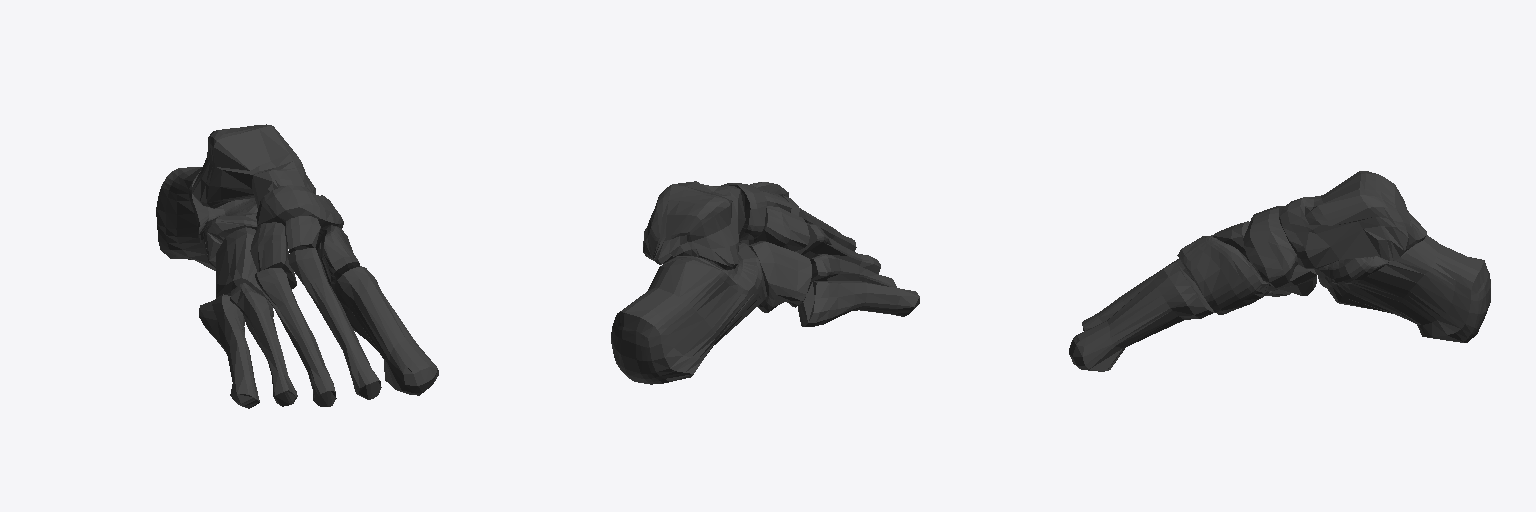
File: R_Talus.obj
3 renders of one model, left to right at view 1: azimuth 30°, elevation 25°; view 2: azimuth 150°, elevation 25°; view 3: azimuth 270°, elevation 25°, orthographic.
Bounding box in the file's own units: 0.0825 × 0.0806 × 0.1755.